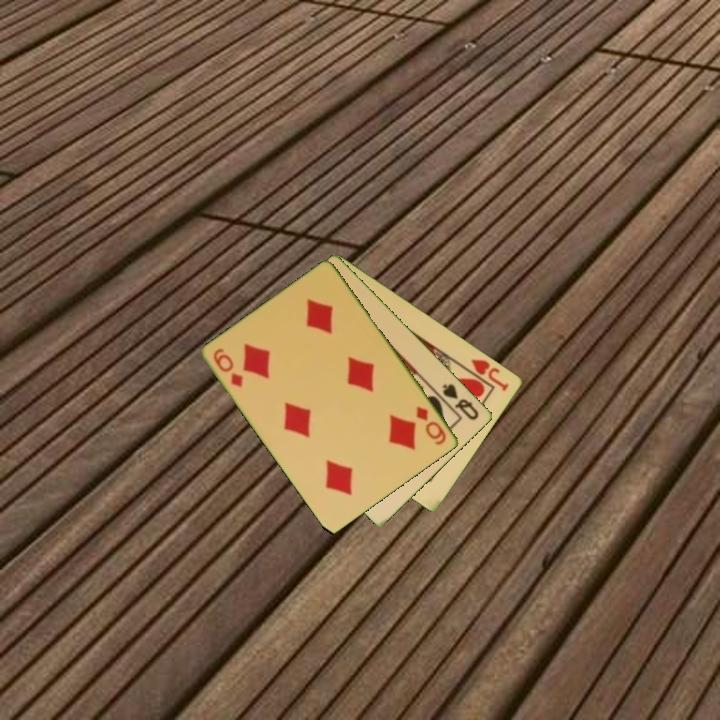6d: (413, 403, 449, 448), (210, 345, 246, 390)
Jh: (468, 355, 512, 394)
Qs: (439, 380, 482, 423)
